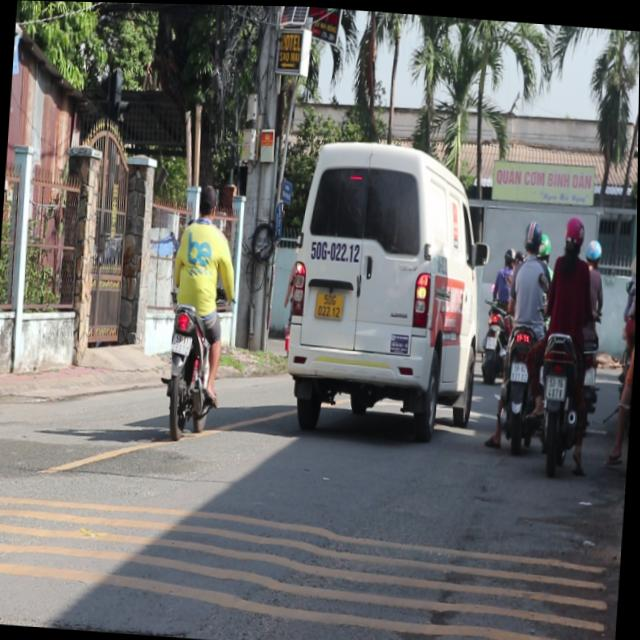helmet: (195, 181, 217, 220)
licenseplate: (156, 176, 236, 437), (534, 207, 608, 471), (491, 211, 556, 451)
motorcyclist: (544, 371, 564, 395), (170, 331, 192, 352), (511, 358, 528, 377)
nohelmet: (561, 209, 585, 250), (522, 215, 542, 252), (536, 224, 552, 256), (584, 233, 602, 261), (537, 235, 551, 256)
